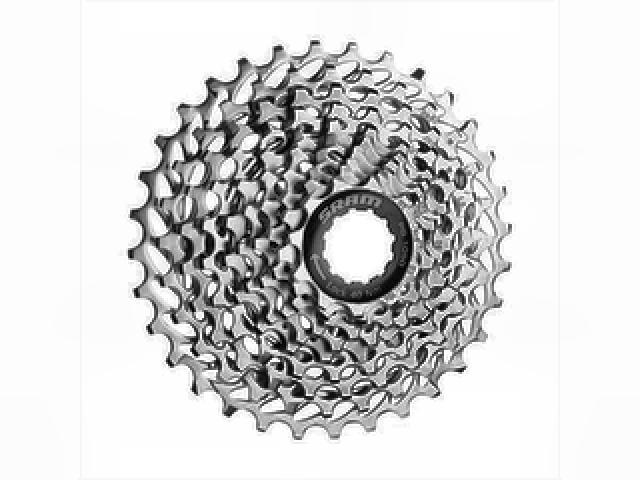cassette: (129, 36, 518, 440)
